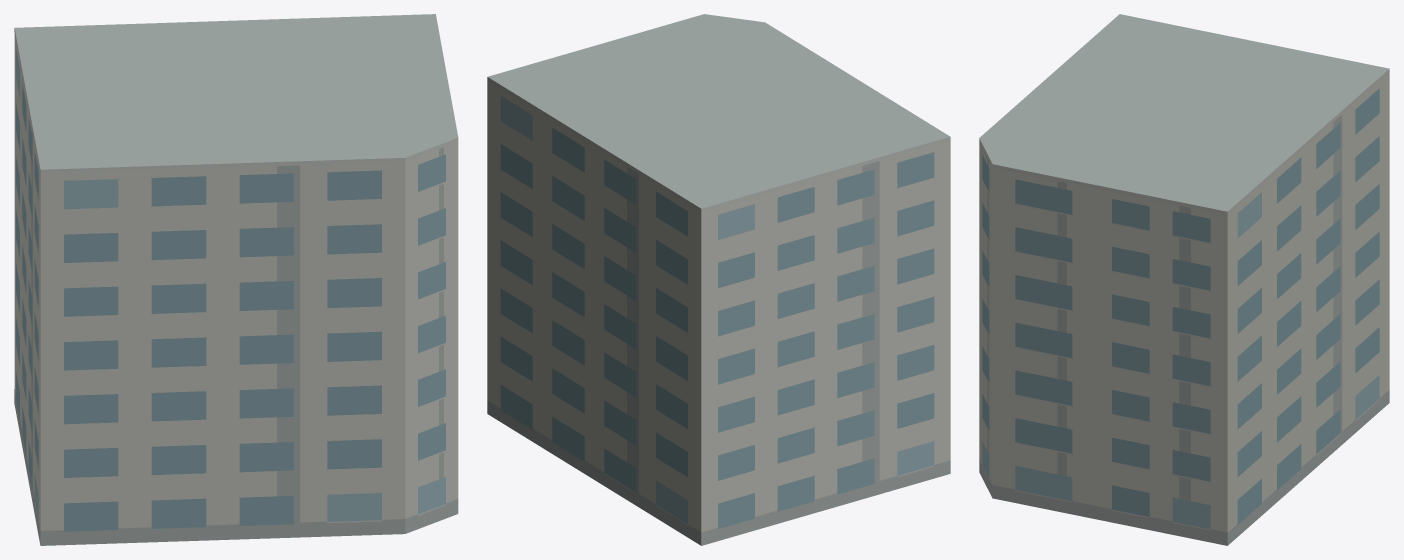
Rendered from residential-a2a37432-47b4-42b4-8ac4-3723a7378713.glb.
The picture shows the model from 3 angles, left to right: view 1: azimuth 30°, elevation 25°; view 2: azimuth 150°, elevation 25°; view 3: azimuth 270°, elevation 25°; orthographic projection. The views are drawn at different scales.
Visible parts, largest first — view 1: residential-a2a37432-47b4-42b4-8ac4-3723a7378713.tmp; view 2: residential-a2a37432-47b4-42b4-8ac4-3723a7378713.tmp; view 3: residential-a2a37432-47b4-42b4-8ac4-3723a7378713.tmp.
Boxes of the visible parts, box(x1,y1,x2,y2) form: residential-a2a37432-47b4-42b4-8ac4-3723a7378713.tmp: box(14, 14, 458, 545); residential-a2a37432-47b4-42b4-8ac4-3723a7378713.tmp: box(487, 14, 950, 545); residential-a2a37432-47b4-42b4-8ac4-3723a7378713.tmp: box(979, 14, 1389, 545).
Bounding box in the file's own units: 27.1 × 21.35 × 23.77.
